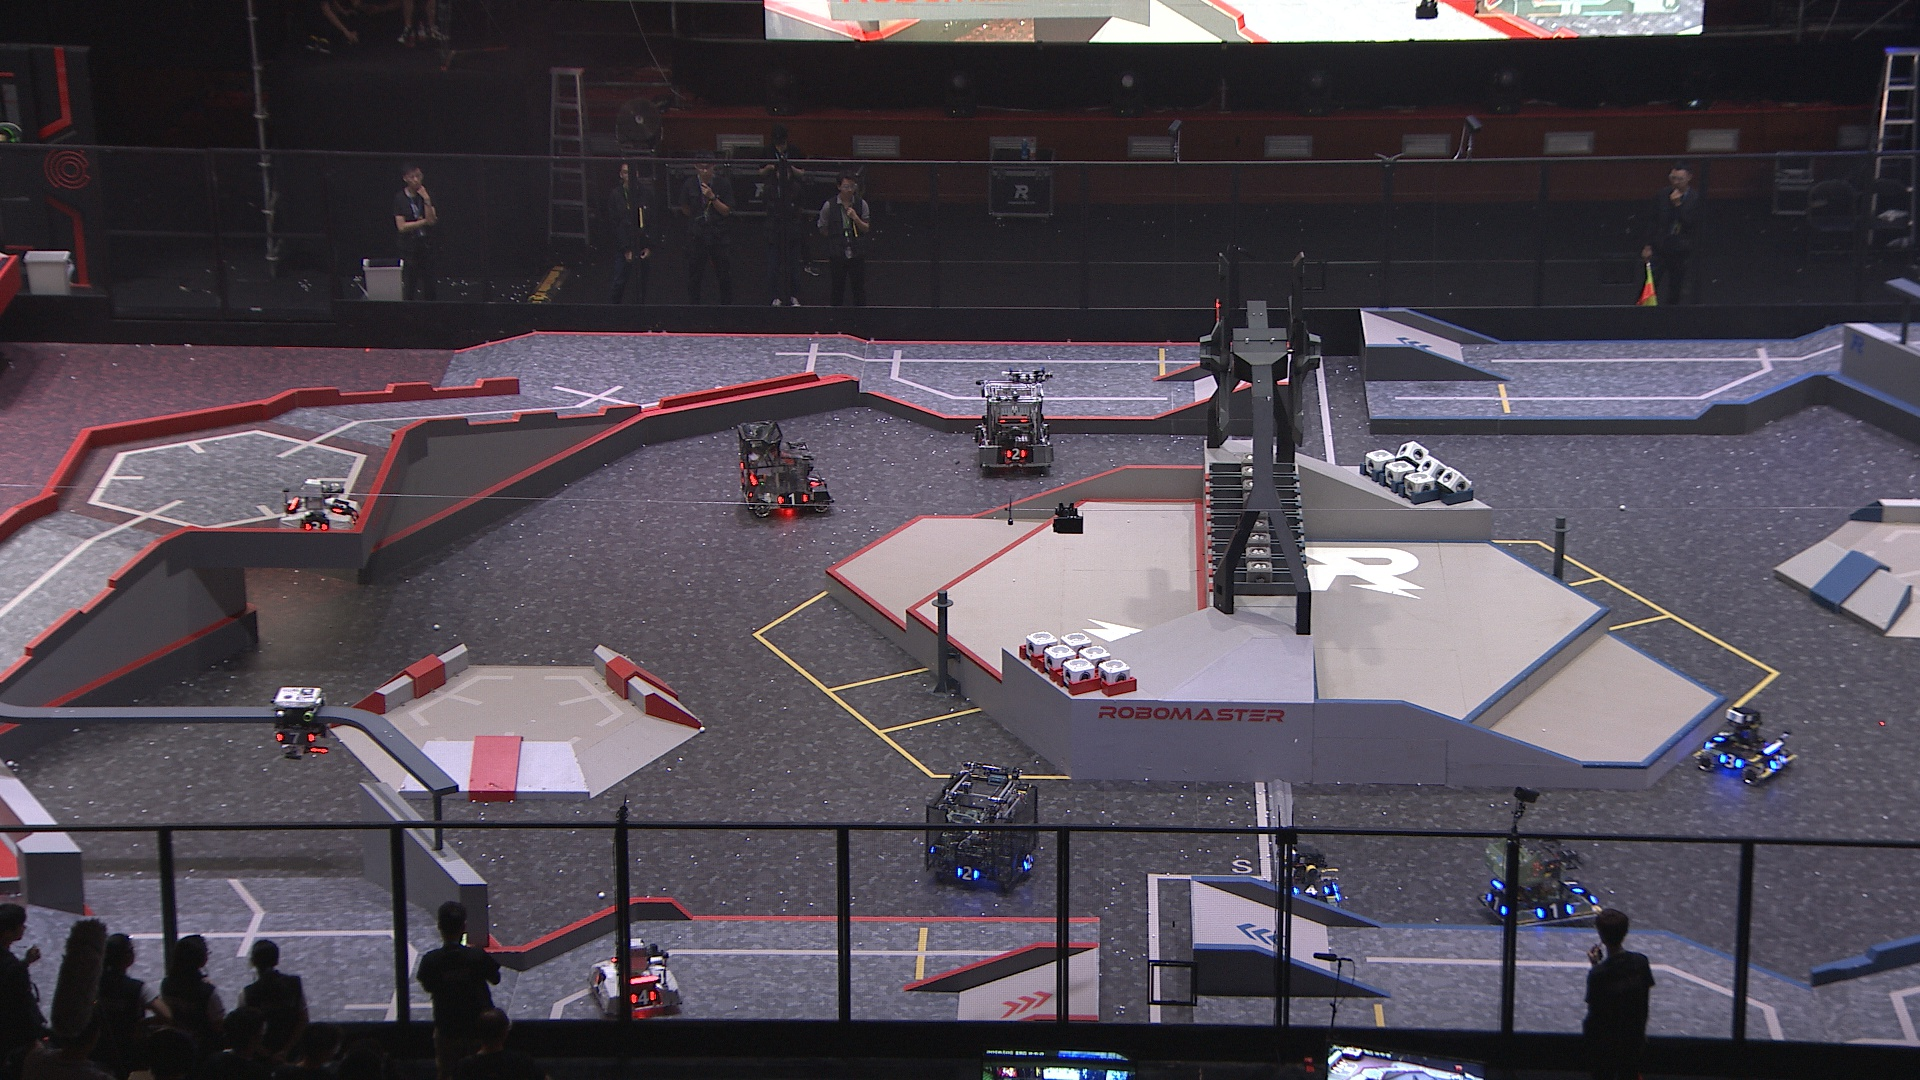armor: (1532, 901, 1575, 920), (628, 986, 659, 1007), (775, 491, 811, 509), (276, 731, 316, 746), (1485, 891, 1509, 916), (955, 862, 982, 882), (1561, 876, 1586, 897), (1292, 884, 1331, 895), (1720, 752, 1742, 769), (1768, 752, 1787, 771), (1712, 727, 1731, 745), (301, 518, 328, 531), (1006, 446, 1027, 462), (1021, 853, 1038, 872), (328, 498, 348, 513), (803, 473, 822, 488)
car: (920, 760, 1044, 898), (1477, 828, 1607, 938), (735, 423, 836, 520), (973, 373, 1058, 480), (1692, 707, 1801, 789), (585, 936, 688, 1022), (272, 475, 363, 542), (1269, 845, 1342, 916)
watcher: (273, 684, 332, 760)
